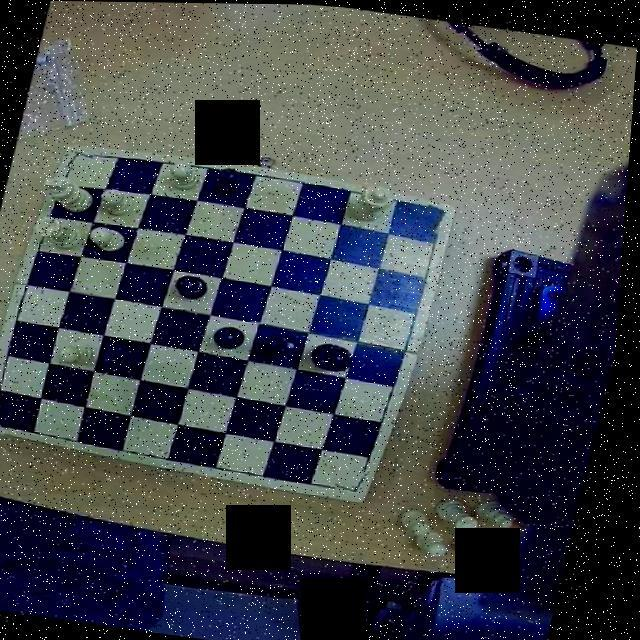chess-table-corners: (340, 462, 380, 498), (420, 196, 456, 232), (62, 142, 97, 170), (0, 402, 24, 434)
